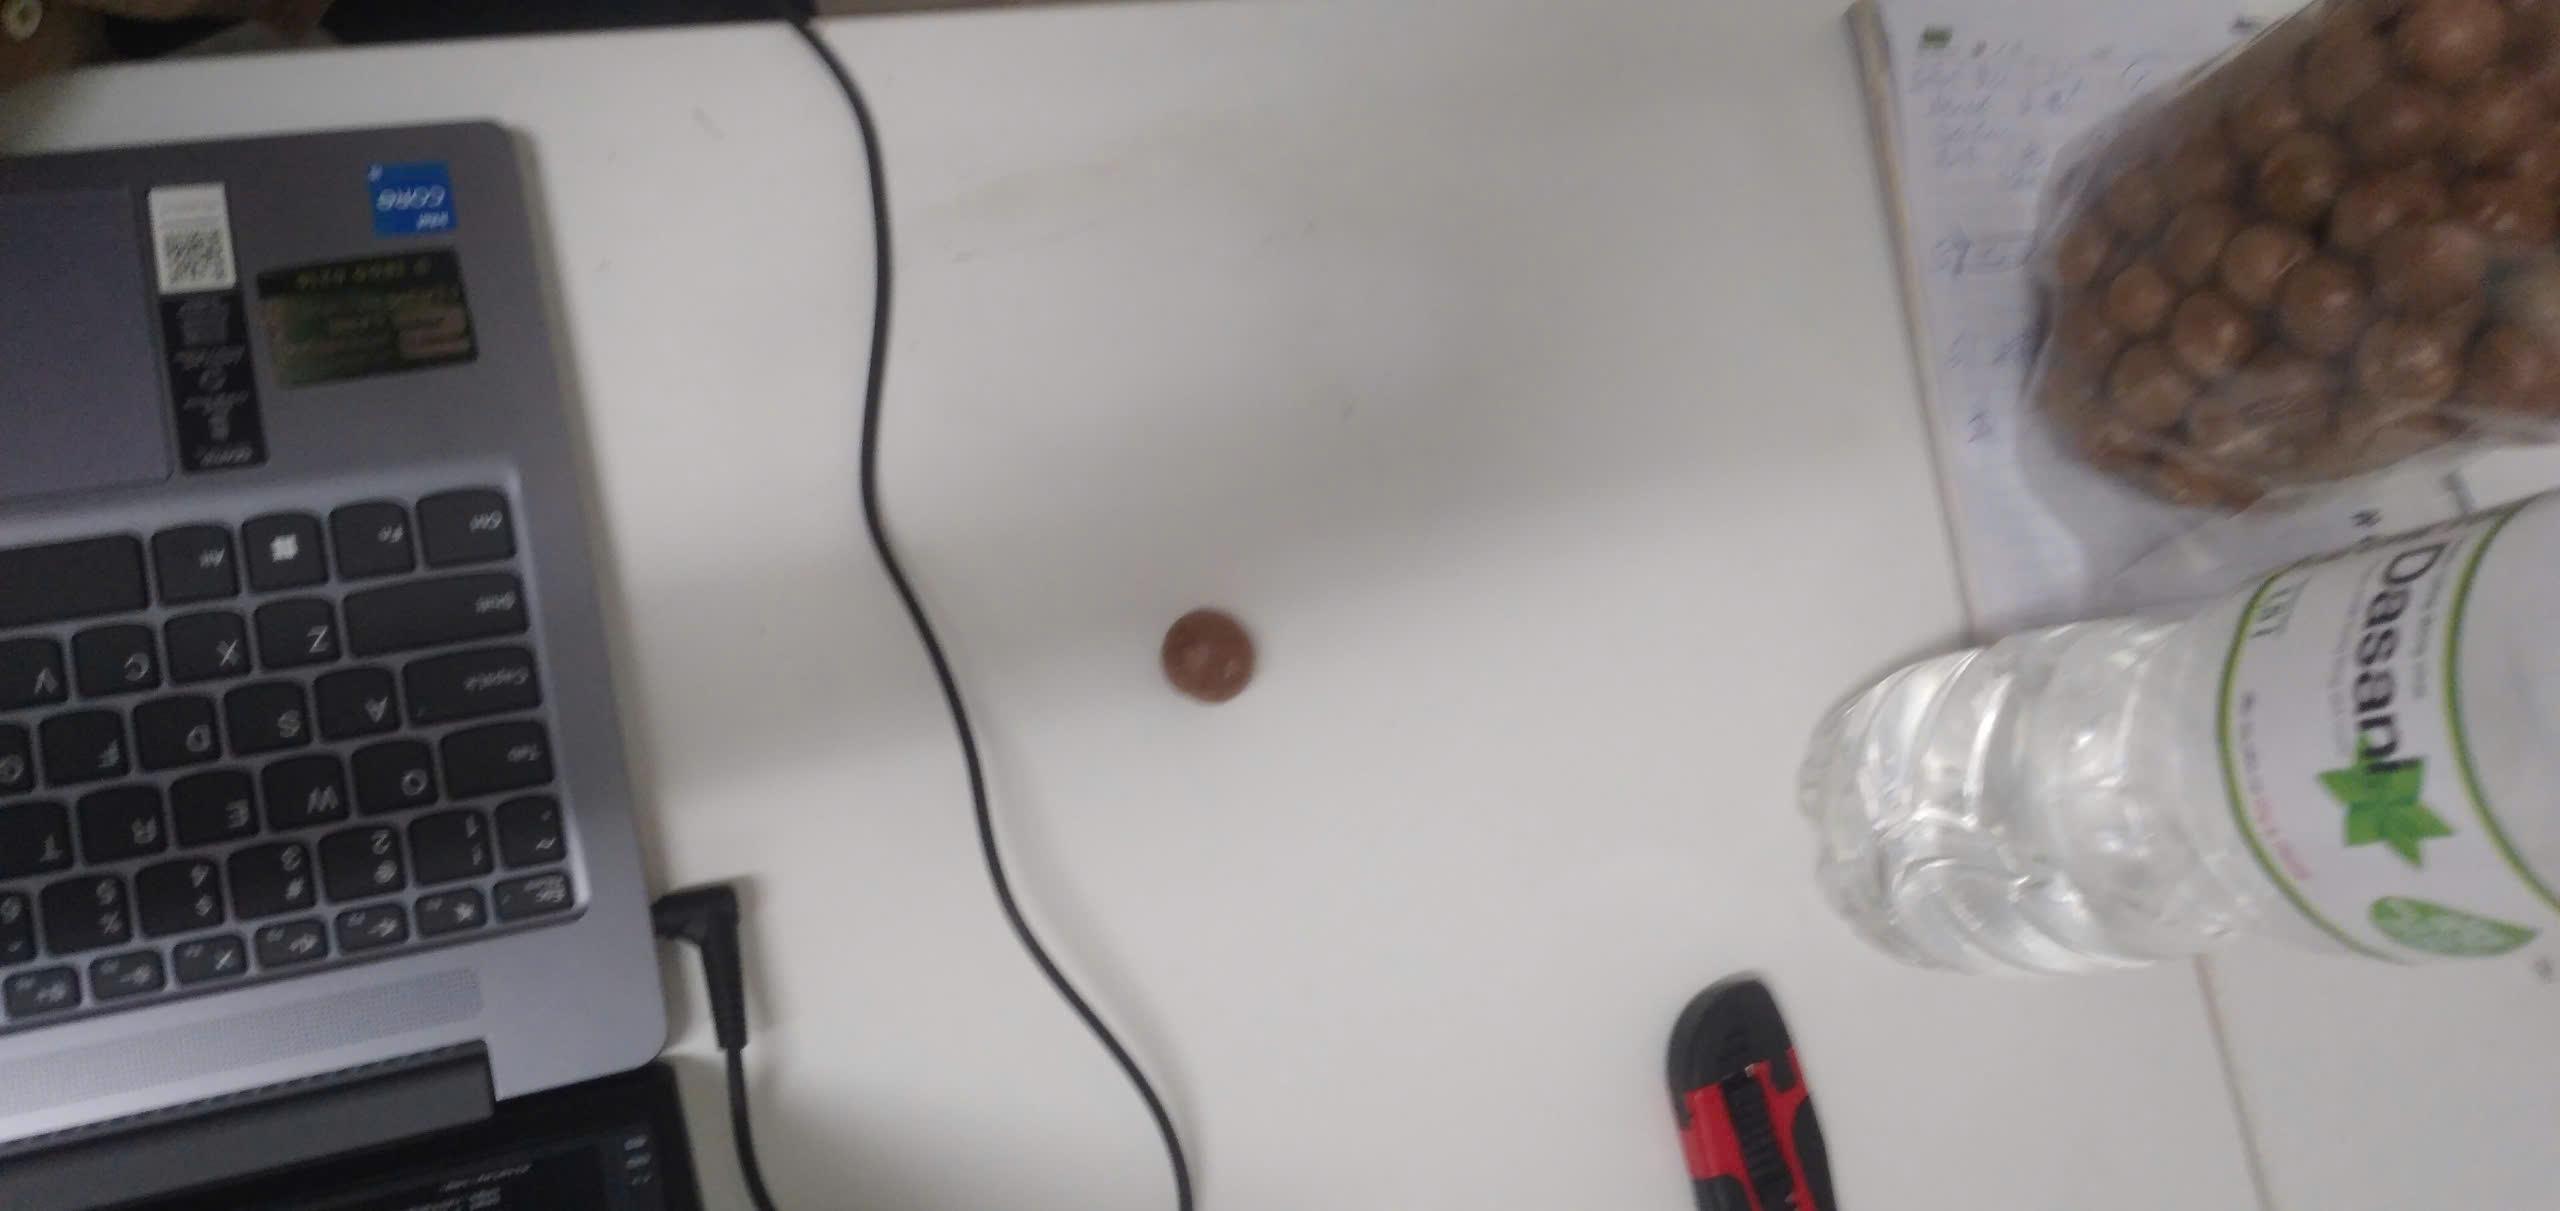mac: (1239, 473, 1492, 718)
